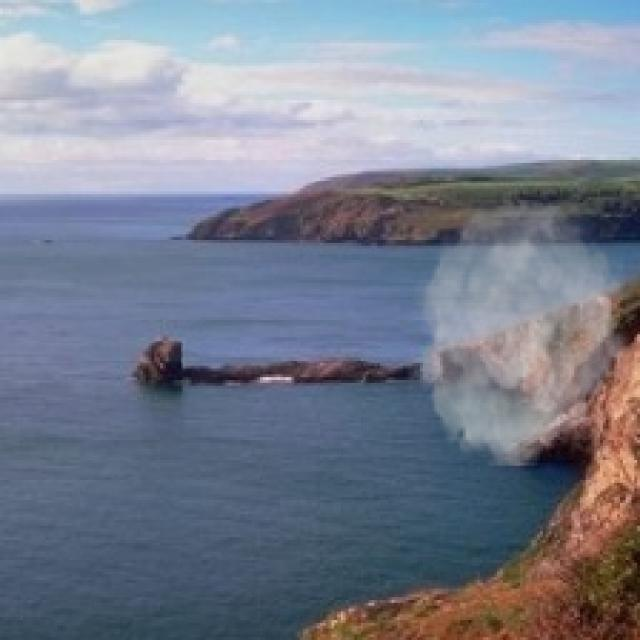smoke: (406, 205, 634, 466)
